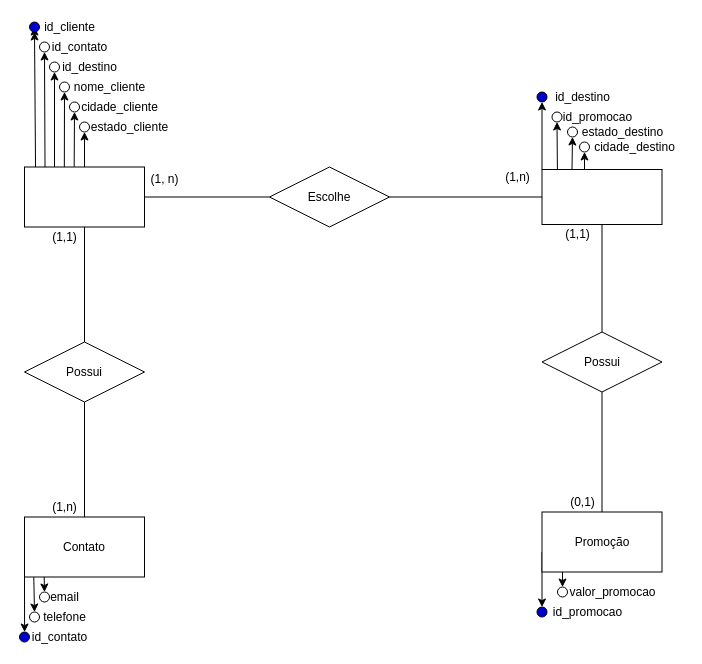
This 702x664 diagram has some shape labels left out. The shapes that lost their labels are listed below. From the top down, each one's centre as x and y in pixels, then its label:
pixel 84 196: Home / Cliente
pixel 601 196: Destinos
